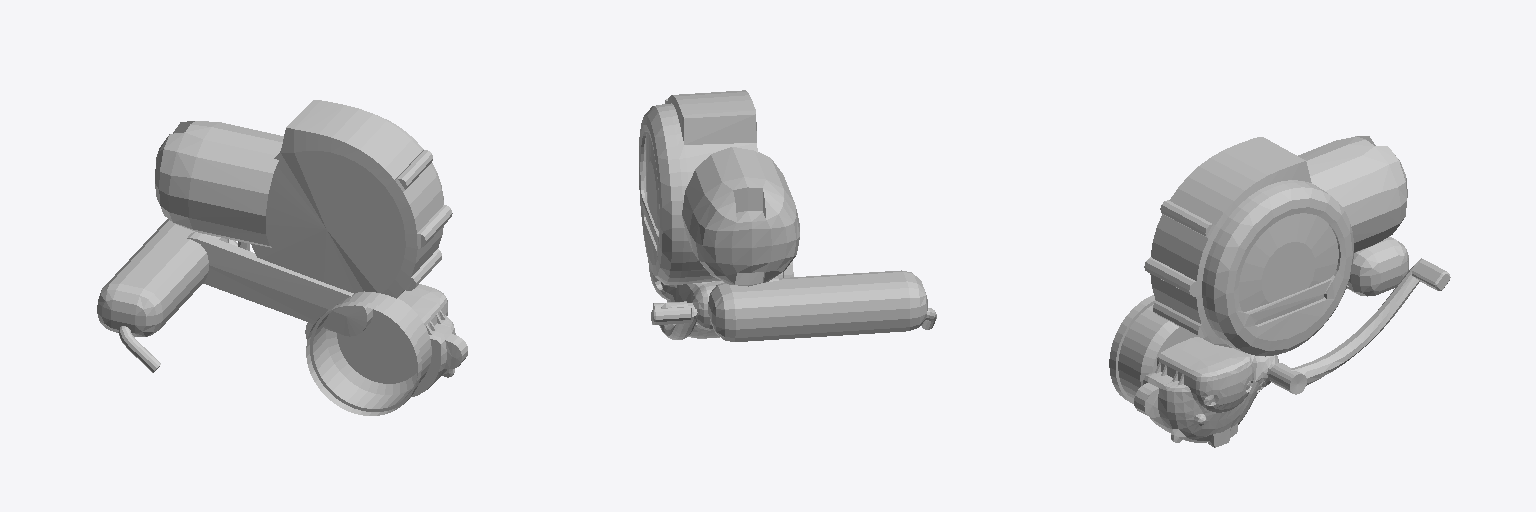
Rendered from vespa_engine.obj.
The picture shows the model from 3 angles: view 1: azimuth 30°, elevation 25°; view 2: azimuth 150°, elevation 25°; view 3: azimuth 270°, elevation 25°; orthographic projection.
Size of the model in its own units: 44.26 by 35.17 by 41.81.